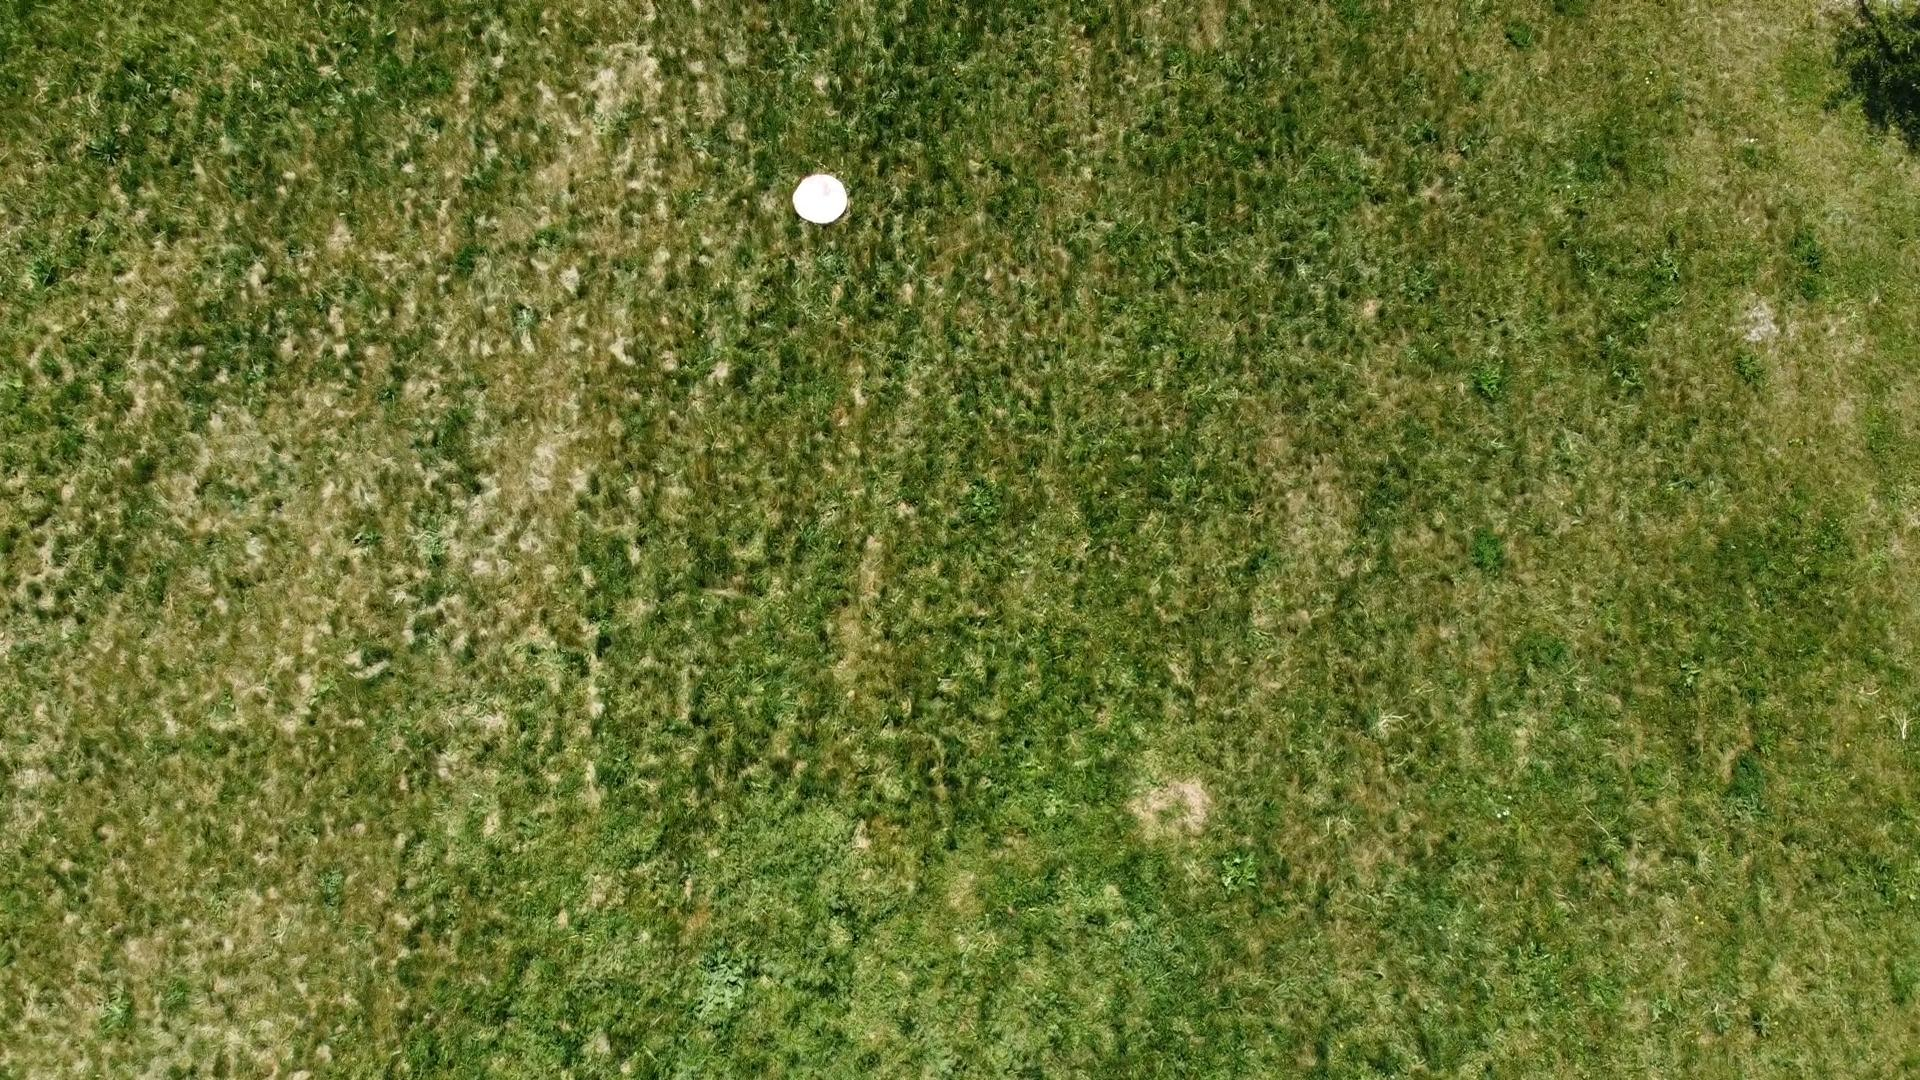Red: (791, 170, 849, 227)
